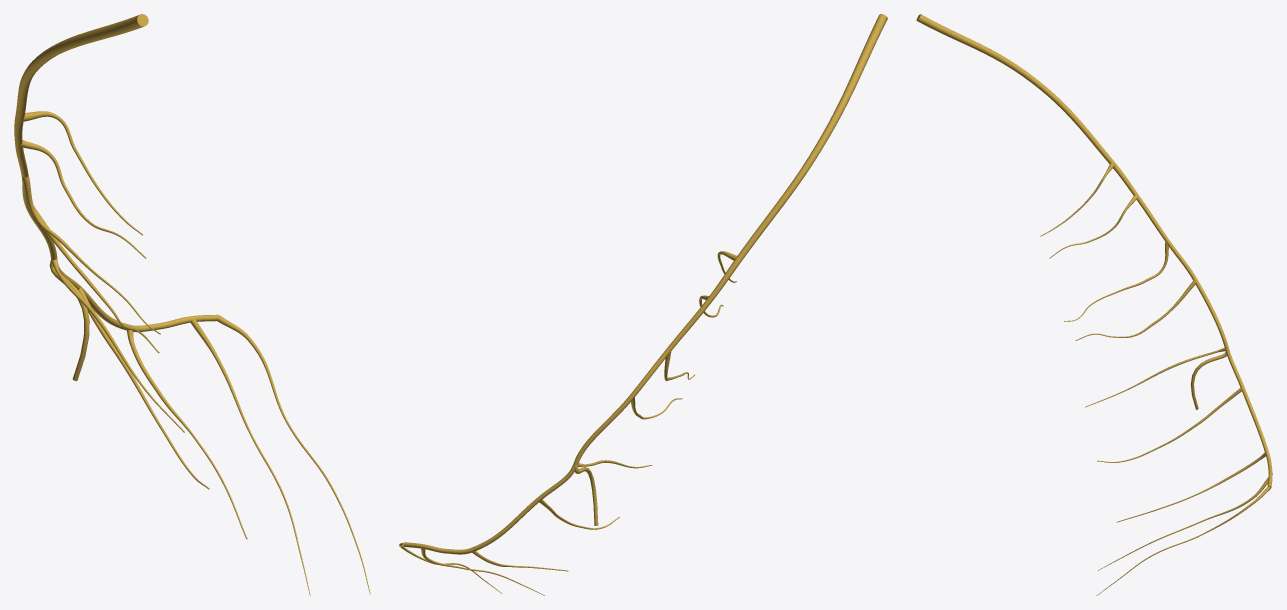
The picture shows the model from 3 angles, left to right: view 1: azimuth 30°, elevation 25°; view 2: azimuth 150°, elevation 25°; view 3: azimuth 270°, elevation 25°; orthographic projection. The views are drawn at different scales.
Parts seen in each view (by area): view 1: 右侧下牙槽神经; view 2: 右侧下牙槽神经; view 3: 右侧下牙槽神经.
Boxes of the visible parts, x1,y1,x2,y2 form: 右侧下牙槽神经: (14, 14, 370, 595); 右侧下牙槽神经: (399, 14, 887, 595); 右侧下牙槽神经: (916, 14, 1272, 595).
Bounding box in the file's own units: 0.0525 × 0.097 × 0.0665.
